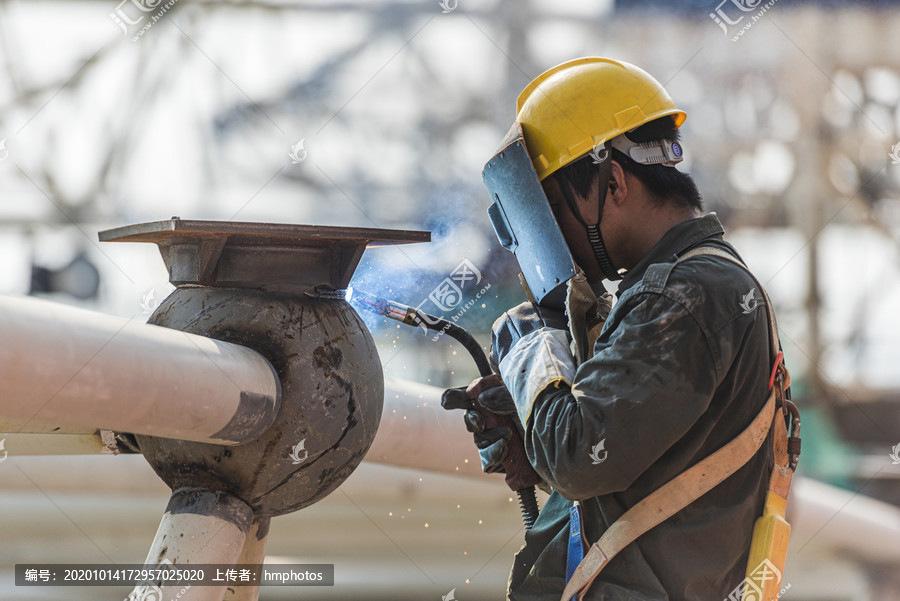safetyhat: (431, 52, 795, 601)
